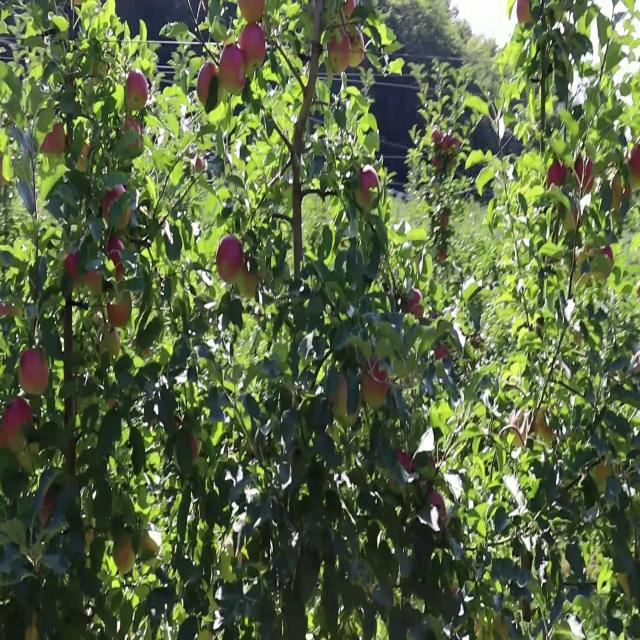apple: (332, 369, 361, 430), (360, 355, 391, 411), (68, 248, 103, 292), (220, 42, 248, 96), (20, 348, 50, 398), (216, 234, 245, 284), (104, 184, 133, 231), (64, 248, 92, 290), (4, 398, 34, 436), (240, 28, 268, 68), (124, 71, 150, 112), (196, 63, 220, 107), (328, 28, 349, 75), (108, 291, 132, 332), (44, 120, 68, 158), (120, 120, 144, 155), (432, 127, 456, 162), (108, 234, 125, 283), (116, 533, 135, 576), (532, 405, 554, 439), (240, 0, 267, 27), (360, 170, 380, 204), (428, 490, 448, 523), (612, 177, 632, 210), (404, 291, 425, 320), (352, 28, 366, 71), (84, 270, 104, 299), (512, 412, 529, 446), (576, 156, 594, 188), (240, 270, 259, 300), (396, 447, 414, 476), (548, 163, 567, 190), (240, 0, 260, 25), (600, 248, 615, 281), (436, 135, 460, 155), (104, 334, 121, 361), (628, 142, 640, 180), (40, 490, 54, 521), (592, 462, 609, 485), (516, 7, 533, 27), (344, 0, 357, 25), (80, 142, 91, 171), (192, 433, 200, 462), (0, 421, 8, 448), (28, 618, 38, 638), (0, 305, 13, 320), (436, 348, 448, 363), (440, 248, 448, 263), (500, 625, 508, 638), (452, 583, 458, 597)
